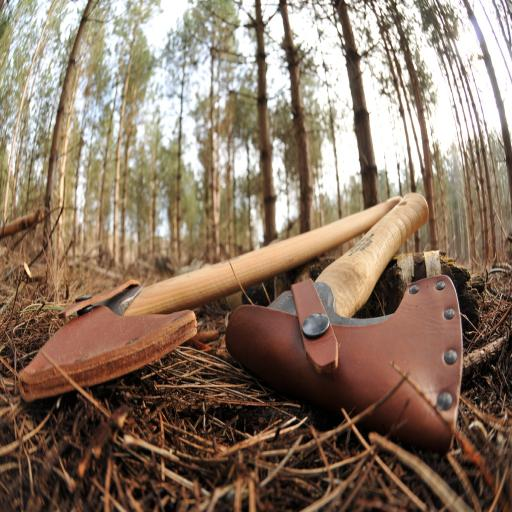Axe: (16, 192, 404, 402), (226, 194, 459, 454)
